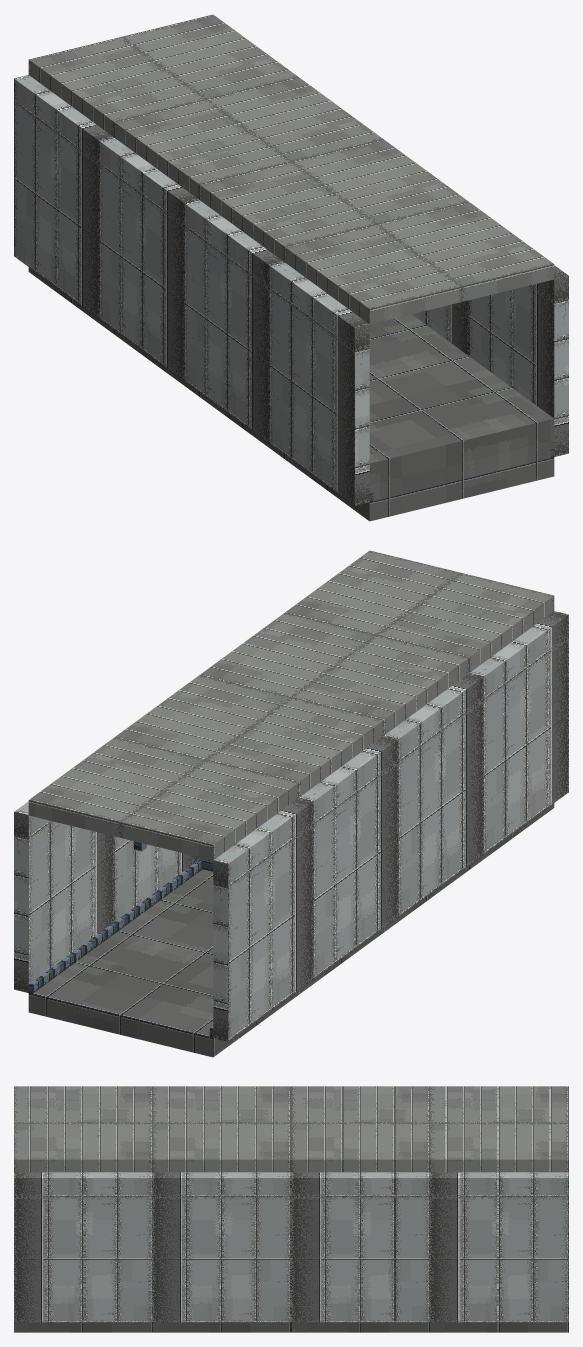
The model's file is shell_corridor_stepped.glb.
3 views of the same model, one above another, from view 1: azimuth 30°, elevation 25°; view 2: azimuth 150°, elevation 25°; view 3: azimuth 270°, elevation 25° (orthographic). The views are drawn at different scales.
Visible parts, largest first — view 1: shell_corridor_stepped; view 2: shell_corridor_stepped; view 3: shell_corridor_stepped.
Part boxes in pixels (x1=…): shell_corridor_stepped: x1=14, y1=14, x2=568, y2=521; shell_corridor_stepped: x1=14, y1=550, x2=568, y2=1057; shell_corridor_stepped: x1=14, y1=1086, x2=568, y2=1332.
Bounding box in the file's own units: 5.8 × 5.5 × 16.
Materials: 11 (11 with a texture image).
